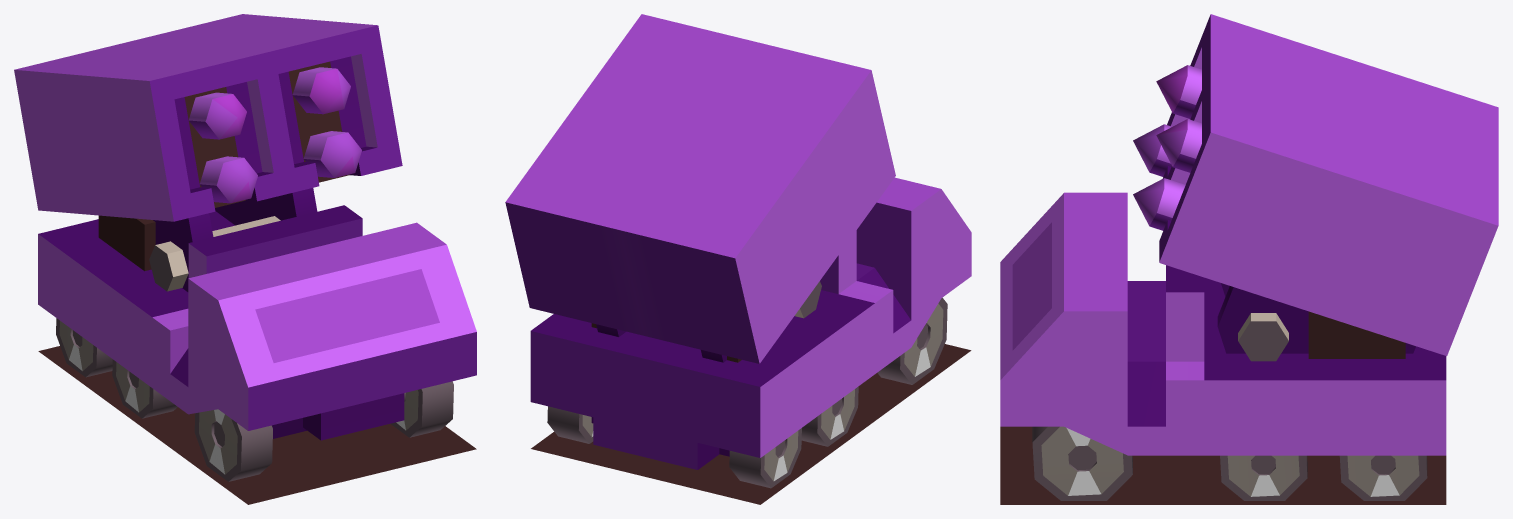
The model's file is RocketMesh.PurpleLightning.glb.
3 renders of one model, left to right at view 1: azimuth 30°, elevation 25°; view 2: azimuth 150°, elevation 25°; view 3: azimuth 270°, elevation 25°, orthographic. The views are drawn at different scales.
Parts seen in each view (by area): view 1: RocketMesh.PurpleLightning; view 2: RocketMesh.PurpleLightning; view 3: RocketMesh.PurpleLightning.
Boxes of the visible parts, left/top/right/bottom form: RocketMesh.PurpleLightning: left=14, top=14, right=476, bottom=504; RocketMesh.PurpleLightning: left=505, top=14, right=971, bottom=504; RocketMesh.PurpleLightning: left=1000, top=14, right=1498, bottom=504.
Size of the model in its own units: 1.1 by 1.63 by 1.96.
Materials: 1 (1 with a texture image).
